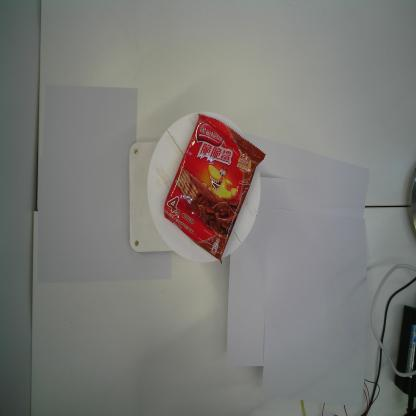Dessert: (163, 113, 266, 265)
